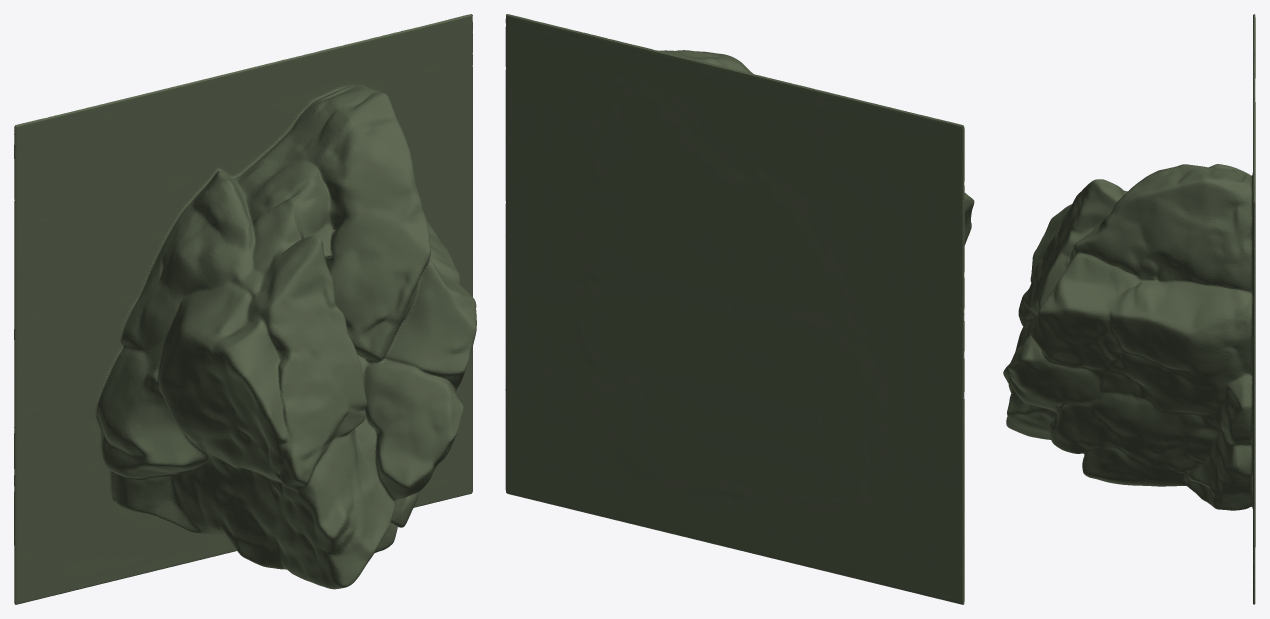
Rendered from swamp_rock.obj.
3 views of the same model, side by side, from view 1: azimuth 30°, elevation 25°; view 2: azimuth 150°, elevation 25°; view 3: azimuth 270°, elevation 25° (orthographic). The views are drawn at different scales.
Visible parts, largest first — view 1: geometry_0; view 2: geometry_0; view 3: geometry_0.
Boxes of the visible parts, x1,y1,x2,y2 form: geometry_0: [14, 14, 476, 604]; geometry_0: [505, 14, 974, 604]; geometry_0: [1003, 14, 1255, 604].
Bounding box in the file's own units: 1 × 0.9995 × 0.5663.
